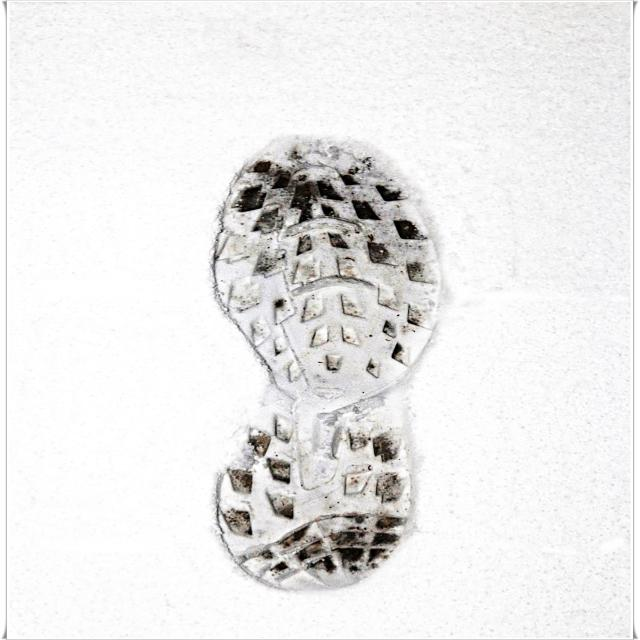human_foot_print: (205, 131, 445, 592)
